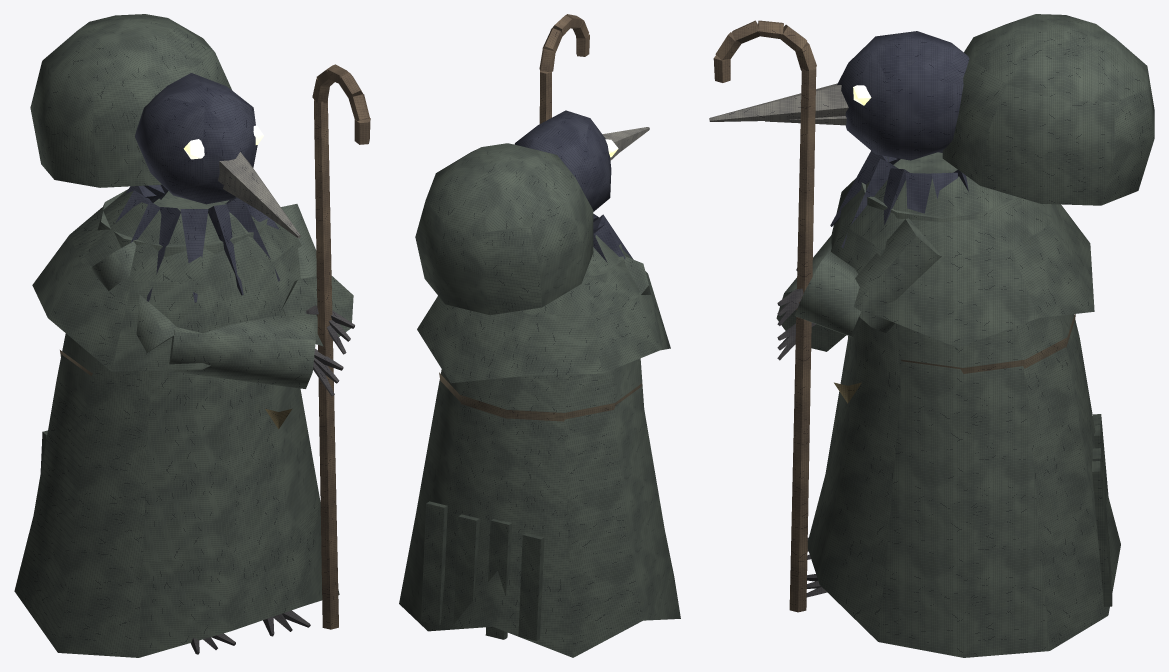
File: kowak.glb
3 renders of one model, left to right at view 1: azimuth 30°, elevation 25°; view 2: azimuth 150°, elevation 25°; view 3: azimuth 270°, elevation 25°, orthographic. The views are drawn at different scales.
Parts seen in each view (by area): view 1: body; view 2: body; view 3: body.
Boxes of the visible parts, x1,y1,x2,y2 form: body: [14, 14, 370, 657]; body: [399, 14, 680, 657]; body: [709, 14, 1154, 657].
Size of the model in its own units: 1.22 by 2.41 by 1.61.
2 materials, 1 textured.
